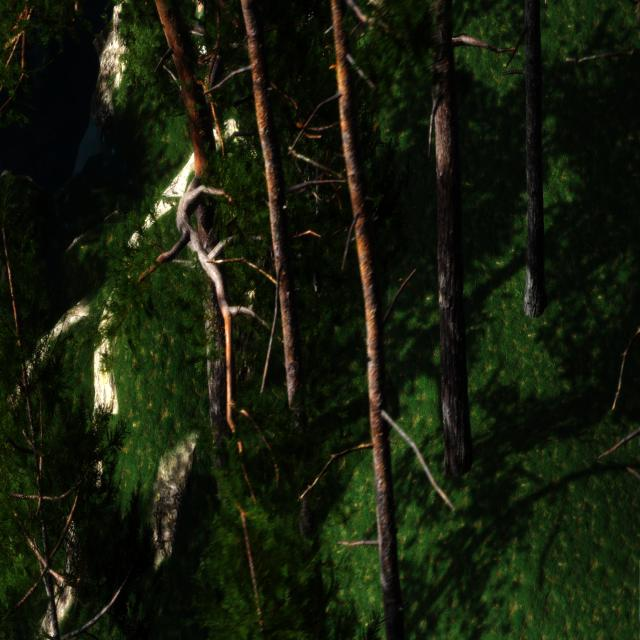Human: (188, 0, 212, 83)
